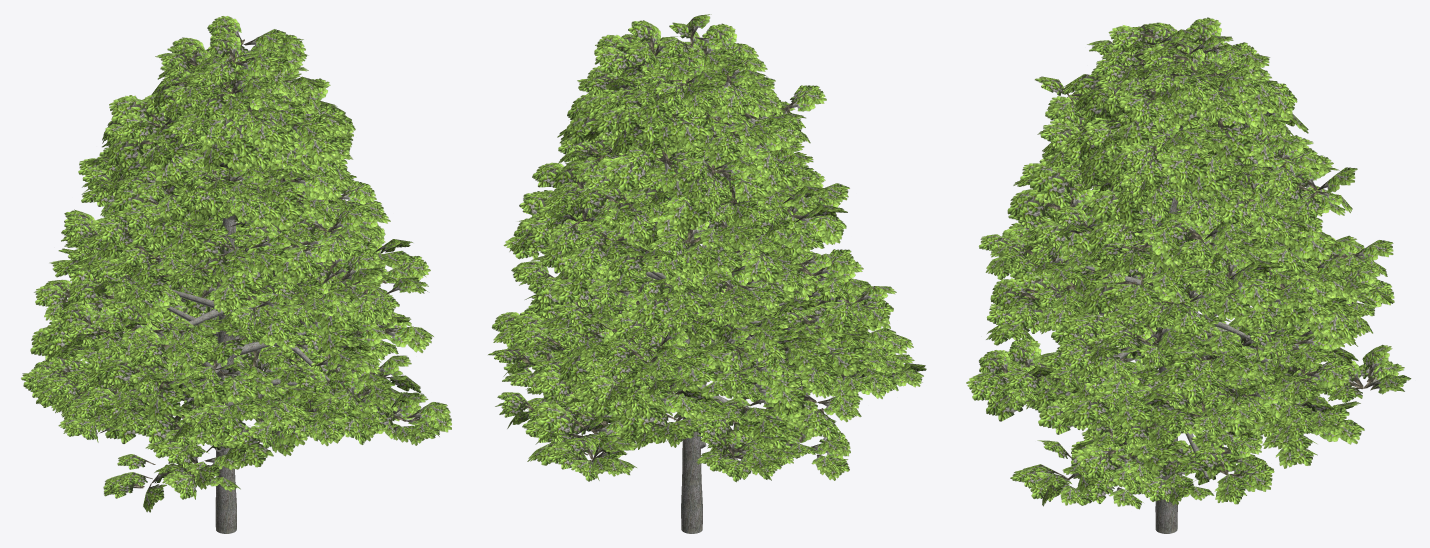
3 views of the same model, side by side, from view 1: azimuth 30°, elevation 25°; view 2: azimuth 150°, elevation 25°; view 3: azimuth 270°, elevation 25° (orthographic). The views are drawn at different scales.
Parts seen in each view (by area): view 1: instancedMergedLeavesMesh_Black_Gum_0_6_0, instancedMergedBranchesLOD_Black_Gum_0_1, instancedMergedBranchesLOD_Black_Gum_0_2; view 2: instancedMergedLeavesMesh_Black_Gum_0_6_0, instancedMergedBranchesLOD_Black_Gum_0_1; view 3: instancedMergedLeavesMesh_Black_Gum_0_6_0, instancedMergedBranchesLOD_Black_Gum_0_1, instancedMergedBranchesLOD_Black_Gum_0_2.
Boxes of the visible parts, <box> form: instancedMergedLeavesMesh_Black_Gum_0_6_0: <box>21,16,451,512</box>; instancedMergedBranchesLOD_Black_Gum_0_1: <box>215,218,236,533</box>; instancedMergedBranchesLOD_Black_Gum_0_2: <box>161,214,329,452</box>; instancedMergedLeavesMesh_Black_Gum_0_6_0: <box>488,14,926,482</box>; instancedMergedBranchesLOD_Black_Gum_0_1: <box>679,148,702,533</box>; instancedMergedLeavesMesh_Black_Gum_0_6_0: <box>966,17,1411,509</box>; instancedMergedBranchesLOD_Black_Gum_0_1: <box>1155,197,1177,533</box>; instancedMergedBranchesLOD_Black_Gum_0_2: <box>1084,266,1261,478</box>.
Size of the model in its own units: 23.86 by 29 by 23.49.
3 materials, 3 textured.
